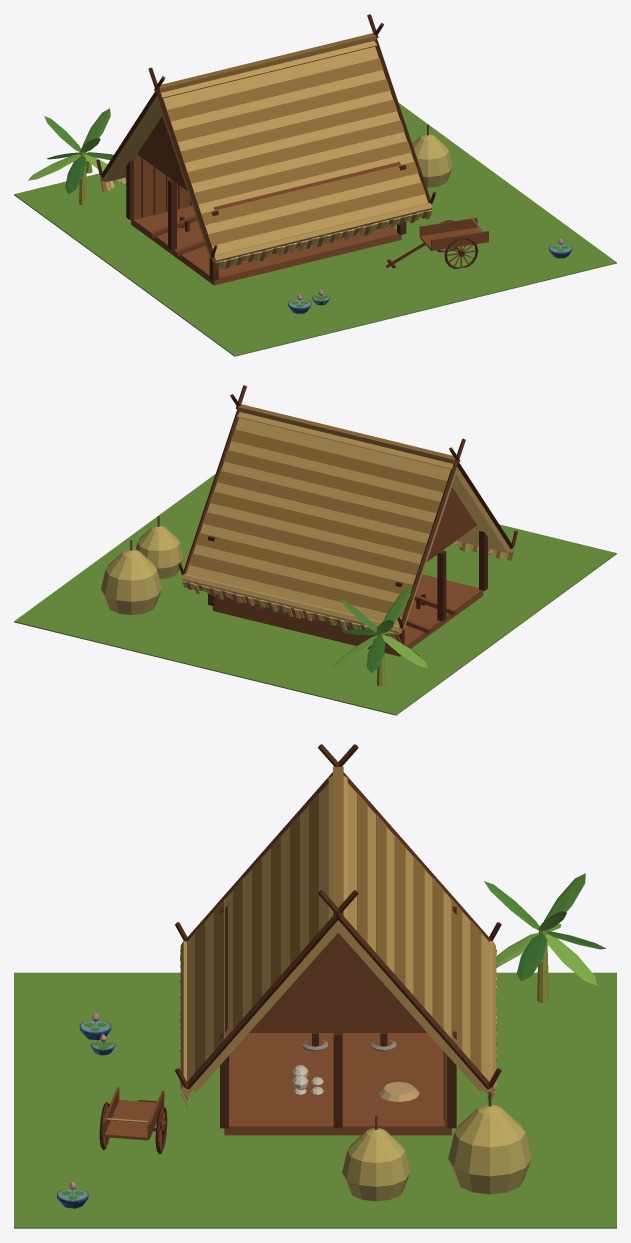
The model's file is factory_3.glb.
3 renders of one model, top to bottom at view 1: azimuth 30°, elevation 25°; view 2: azimuth 150°, elevation 25°; view 3: azimuth 270°, elevation 25°, orthographic. The views are drawn at different scales.
Visible parts, largest first — view 1: body; view 2: body; view 3: body.
Part boxes in pixels (x1,y1,x2,y2): body: [14, 14, 616, 356]; body: [14, 385, 616, 715]; body: [14, 744, 616, 1228].
Size of the model in its own units: 16.28 by 7.5 by 15.9.
